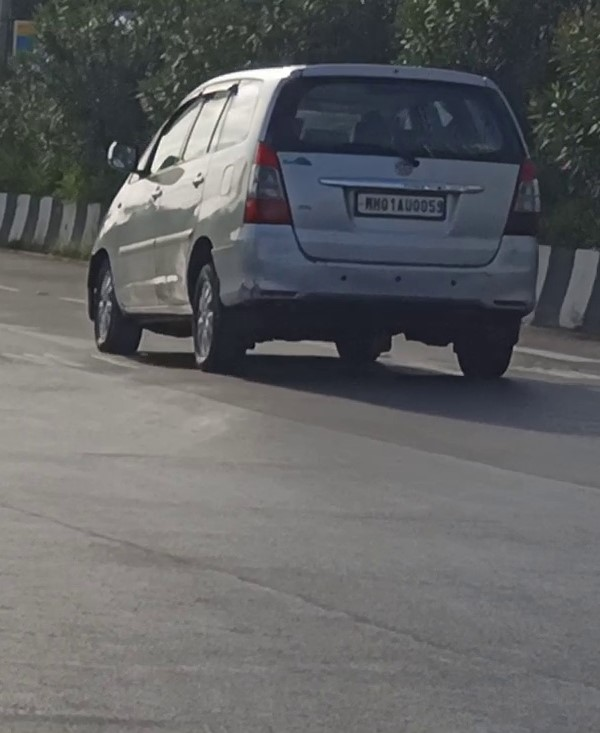MH01AU0059: (355, 190, 447, 219)
